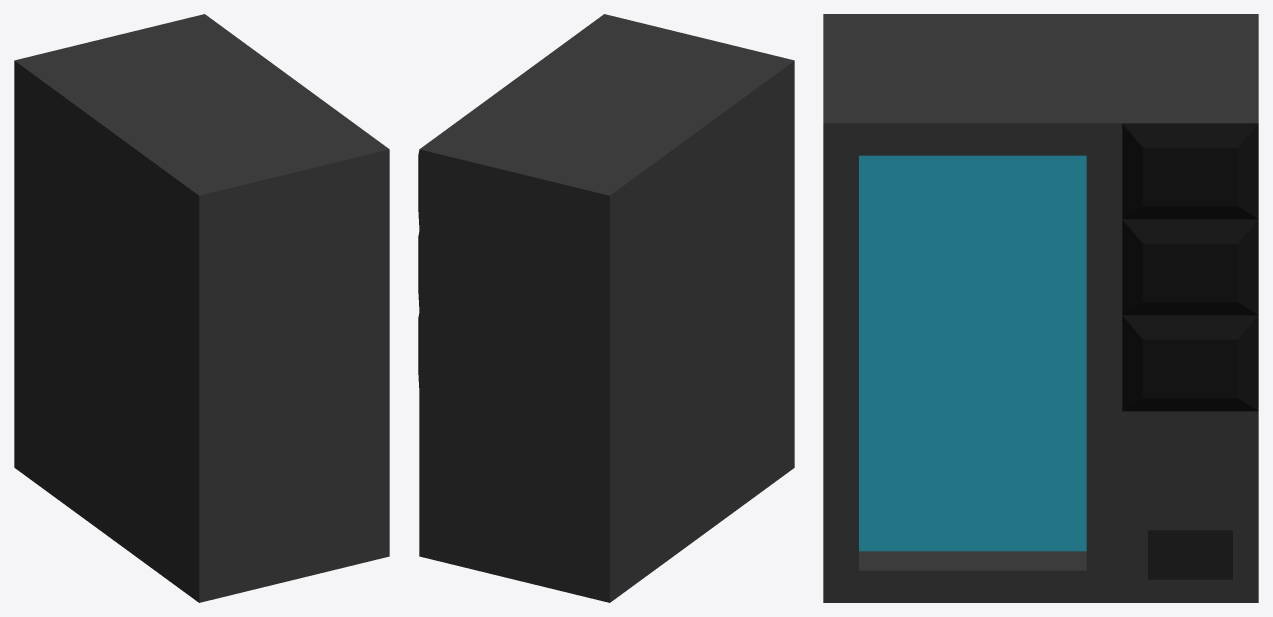
The model's file is vendingmachine.fbx.
3 views of the same model, side by side, from view 1: azimuth 30°, elevation 25°; view 2: azimuth 150°, elevation 25°; view 3: azimuth 270°, elevation 25° (orthographic). The views are drawn at different scales.
Visible parts, largest first — view 1: vending; view 2: vending; view 3: vending (×3).
Boxes of the visible parts, x1=… form: vending: x1=14, y1=14, x2=389, y2=602; vending: x1=419, y1=14, x2=794, y2=602; vending (×3): x1=823, y1=14, x2=1258, y2=602.
Bounding box in the file's own units: 1.52 × 2.94 × 2.42.
